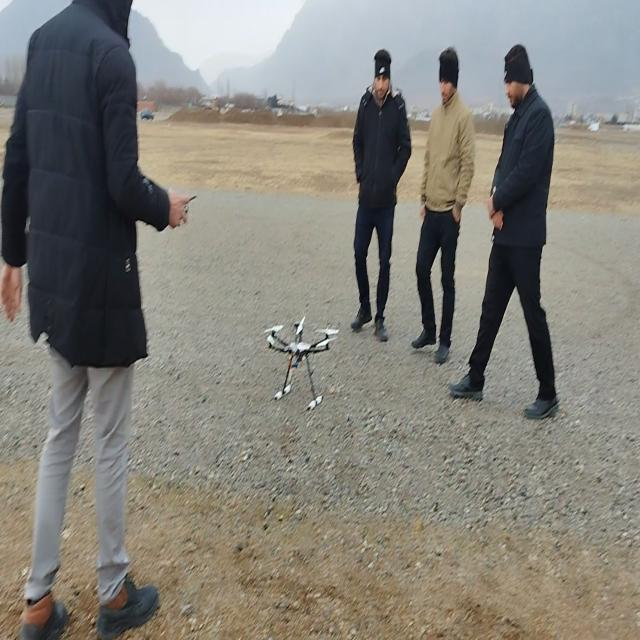drone: (264, 314, 340, 413)
